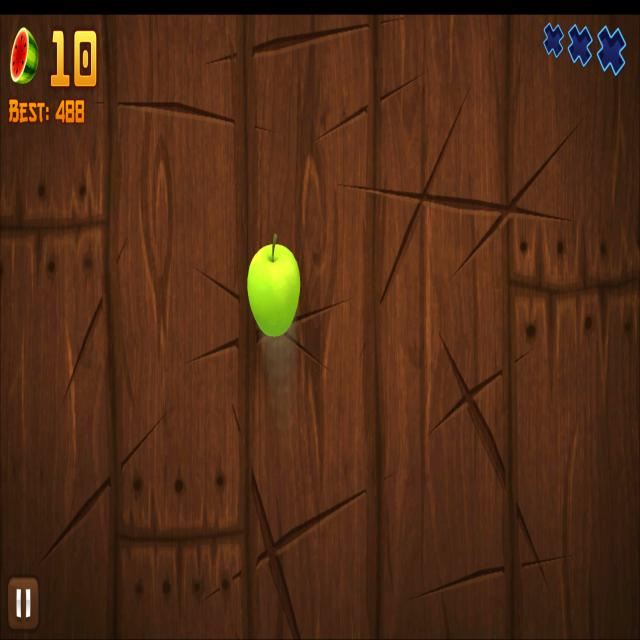fruit: (246, 242, 302, 336)
